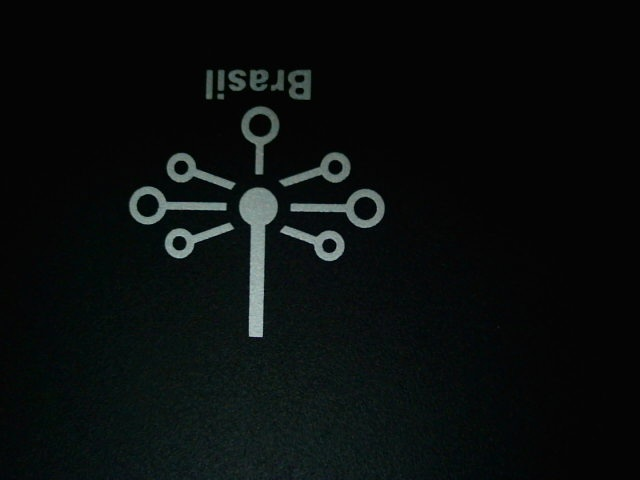BG_Brasil: (99, 52, 397, 349)
